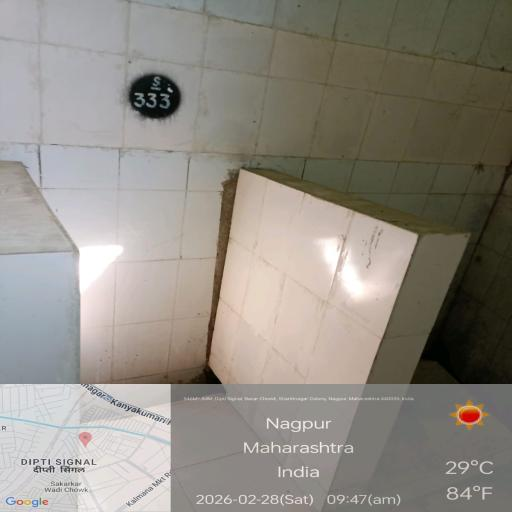partial_dirty_floor: (69, 295, 344, 512), (60, 58, 379, 174)
